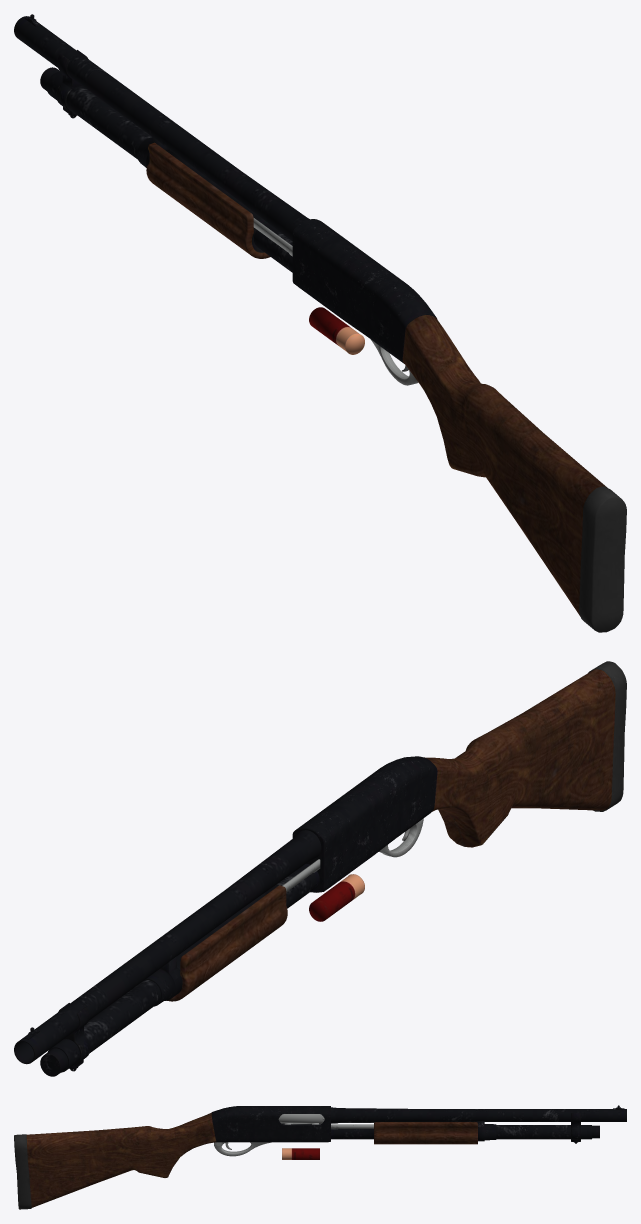
3 views of the same model, one above another, from view 1: azimuth 30°, elevation 25°; view 2: azimuth 150°, elevation 25°; view 3: azimuth 270°, elevation 25° (orthographic). The views are drawn at different scales.
Visible parts, largest first — view 1: body, pump, shell; view 2: body, pump, shell; view 3: body, pump, shell.
Boxes of the visible parts, x1,y1,x2,y2 form: body: [14, 14, 626, 632]; pump: [146, 142, 292, 258]; shell: [309, 307, 364, 354]; body: [14, 661, 626, 1076]; pump: [167, 859, 320, 1001]; shell: [309, 874, 364, 921]; body: [14, 1105, 626, 1209]; pump: [278, 1114, 477, 1144]; shell: [282, 1148, 319, 1159].
Size of what is drawn, in the model's own units: 0.041 by 0.1834 by 0.99.
1 material, 1 textured.
